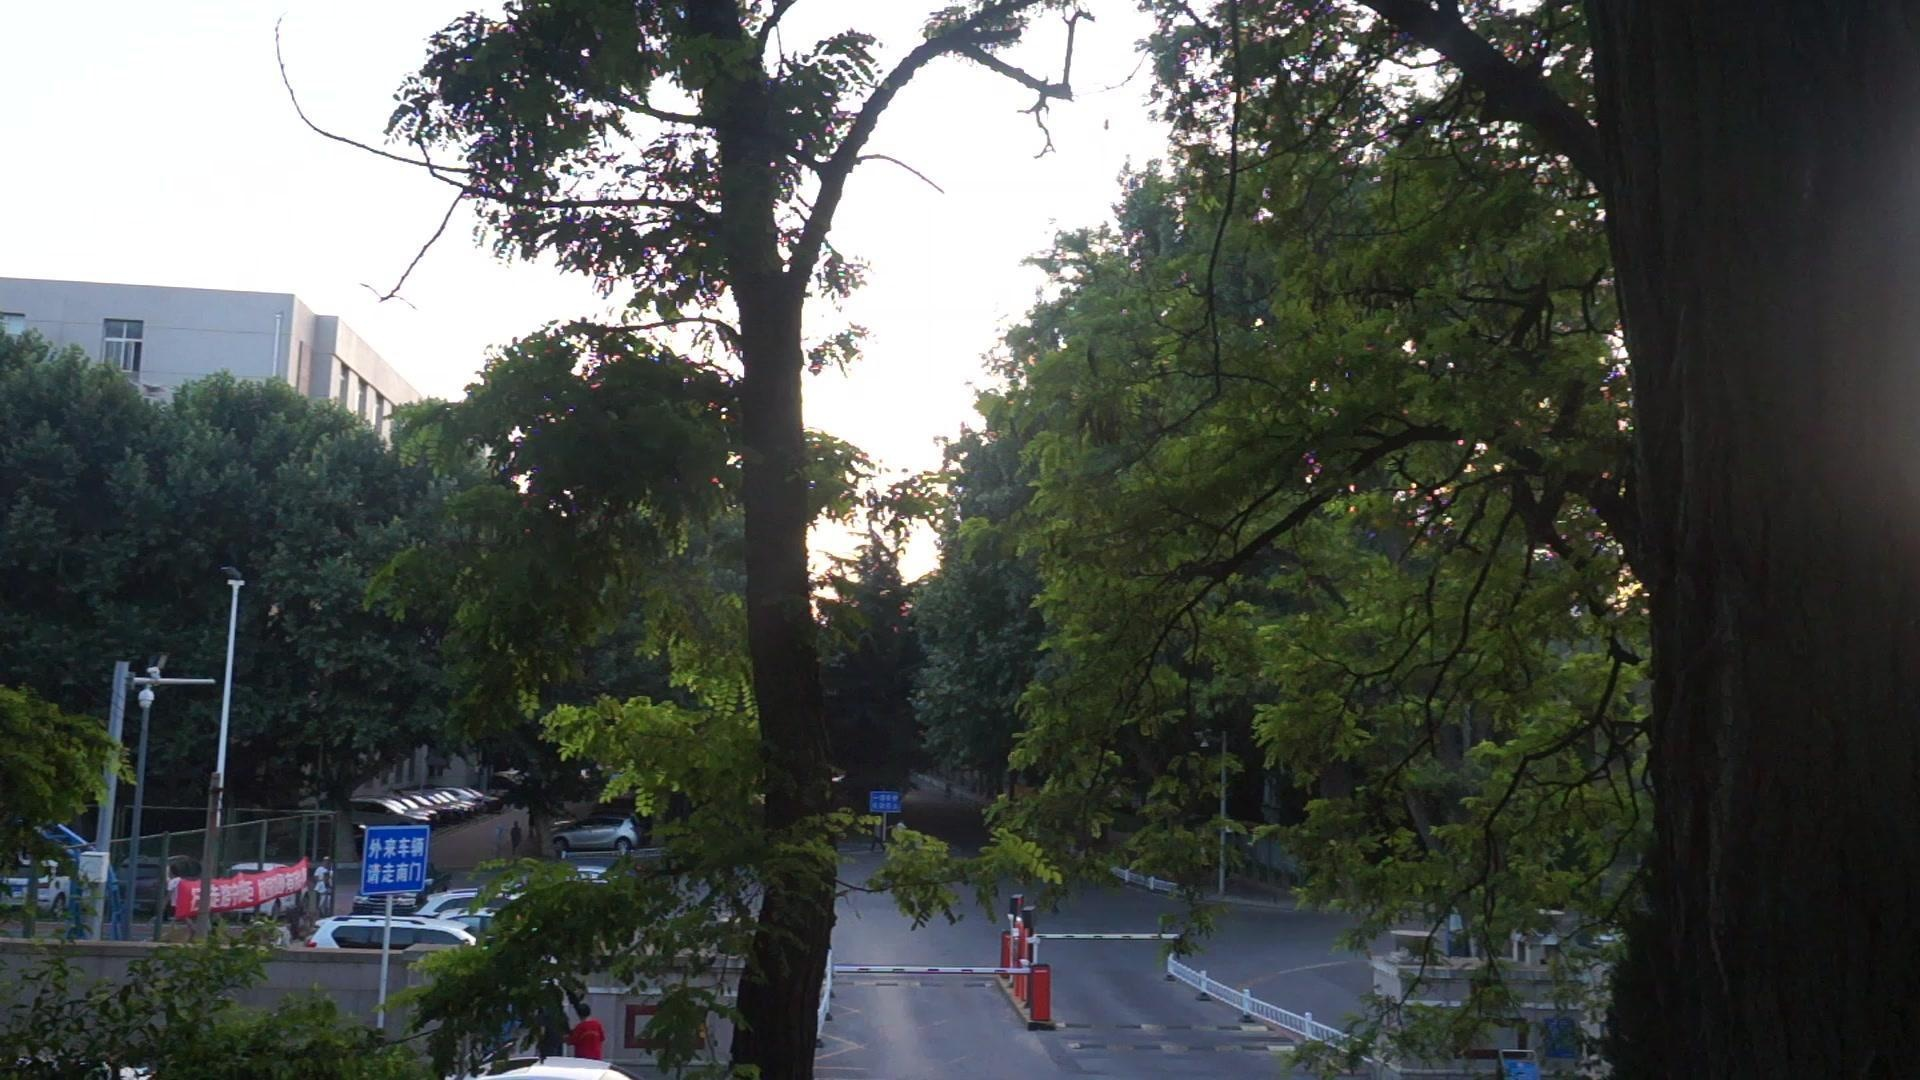UAV: (142, 384, 167, 393)
